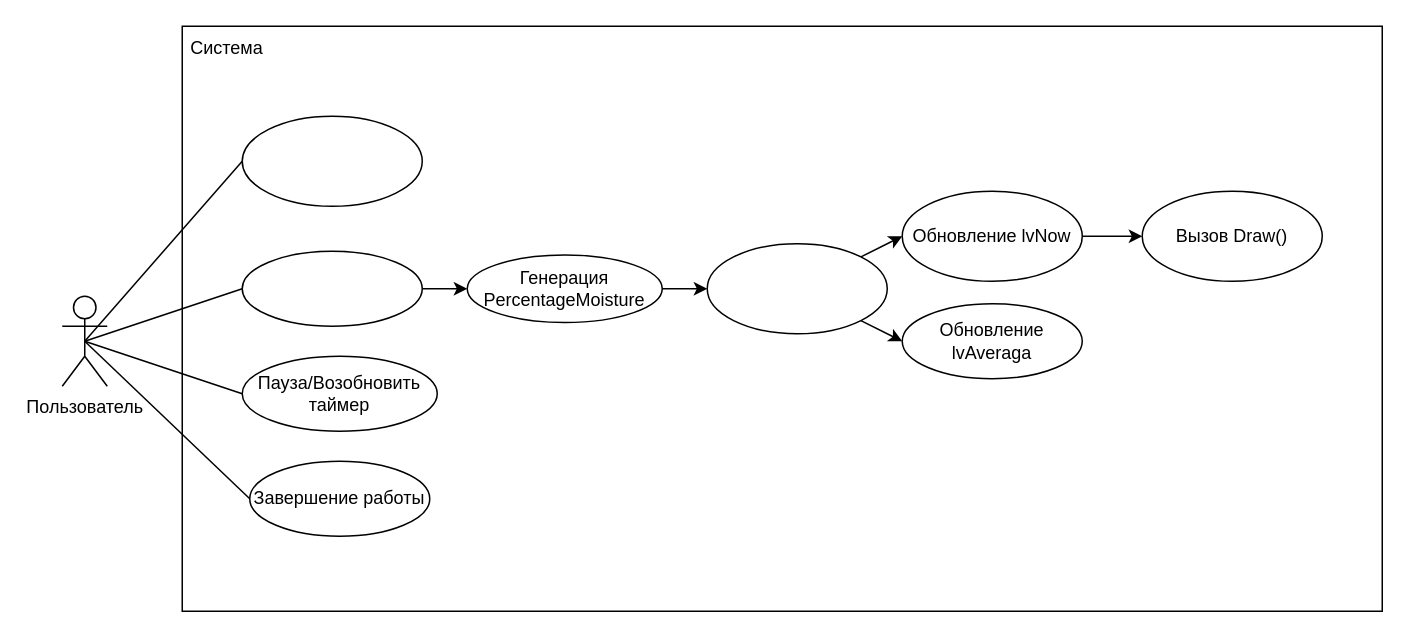
The diagram is 1409 pixels wide and 638 high, and some of its shapes have lost their labels. The shapes that lost their labels are listed below. From the top down, each one's centre as x and y in pixels, then its label:
the point at 331,160: Инициализация MainWindow
the point at 331,288: Запуск таймера
the point at 796,288: Вычисление averageHumidity
